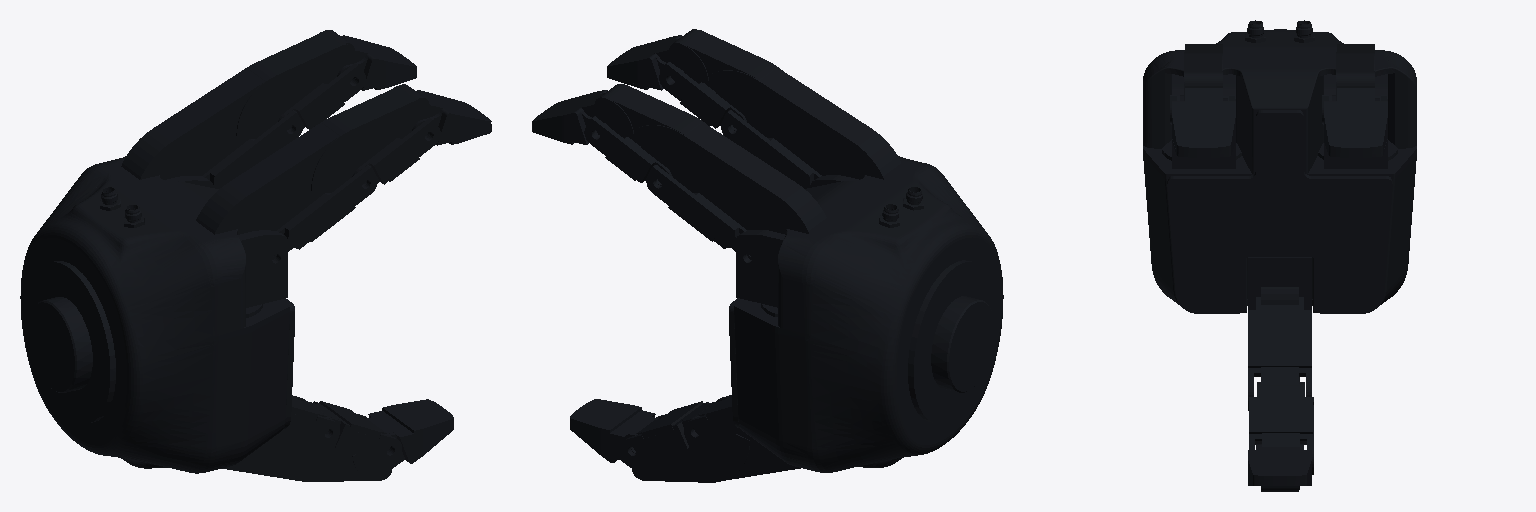
The robot description file, URDF, robot "fanuc_lrmate200id7l":
<?xml version="1.0"?>
<!--
  FANUC LR Mate 200iD/7L articulation for SPARK's simulator backends.

  Derived from ROS-Industrial fanuc_lrmate200id_support. See README.md and
  LICENSE.ros_industrial_fanuc in this directory for provenance and license.
  The serial-chain transforms and mesh selection match the upstream 7L macro;
  limits and effort values are aligned with SPARK's MuJoCo model.
-->
<robot name="fanuc_lrmate200id7l">
  <material name="fanuc_gray28">
    <color rgba="0.28 0.28 0.28 1"/>
  </material>
  <material name="fanuc_yellow">
    <color rgba="0.96 0.76 0.13 1"/>
  </material>
  <material name="fanuc_black">
    <color rgba="0.15 0.15 0.15 1"/>
  </material>

  <link name="base_link">
    <visual>
      <origin xyz="0 0 0" rpy="0 0 0"/>
      <geometry>
        <mesh filename="./meshes/lrmate200id/base_link.stl"/>
      </geometry>
      <material name="fanuc_gray28"/>
    </visual>
    <collision>
      <origin xyz="0 0 0" rpy="0 0 0"/>
      <geometry>
        <mesh filename="./meshes/lrmate200id/base_link.stl"/>
      </geometry>
    </collision>
  </link>

  <link name="link_1">
    <visual>
      <origin xyz="0 0 0" rpy="0 0 0"/>
      <geometry>
        <mesh filename="./meshes/lrmate200id/link_1.stl"/>
      </geometry>
      <material name="fanuc_yellow"/>
    </visual>
    <collision>
      <origin xyz="0 0 0" rpy="0 0 0"/>
      <geometry>
        <mesh filename="./meshes/lrmate200id/link_1.stl"/>
      </geometry>
    </collision>
  </link>

  <link name="link_2">
    <visual>
      <origin xyz="0 0 0" rpy="0 0 0"/>
      <geometry>
        <mesh filename="./meshes/lrmate200id/link_2.stl"/>
      </geometry>
      <material name="fanuc_yellow"/>
    </visual>
    <collision>
      <origin xyz="0 0 0" rpy="0 0 0"/>
      <geometry>
        <mesh filename="./meshes/lrmate200id/link_2.stl"/>
      </geometry>
    </collision>
  </link>

  <link name="link_3">
    <visual>
      <origin xyz="0 0 0" rpy="0 0 0"/>
      <geometry>
        <mesh filename="./meshes/lrmate200id/link_3.stl"/>
      </geometry>
      <material name="fanuc_yellow"/>
    </visual>
    <collision>
      <origin xyz="0 0 0" rpy="0 0 0"/>
      <geometry>
        <mesh filename="./meshes/lrmate200id/link_3.stl"/>
      </geometry>
    </collision>
  </link>

  <link name="link_4">
    <visual>
      <origin xyz="0 0 0" rpy="0 0 0"/>
      <geometry>
        <mesh filename="./meshes/lrmate200id/link_4.stl"/>
      </geometry>
      <material name="fanuc_yellow"/>
    </visual>
    <collision>
      <origin xyz="0 0 0" rpy="0 0 0"/>
      <geometry>
        <mesh filename="./meshes/lrmate200id/link_4.stl"/>
      </geometry>
    </collision>
  </link>

  <link name="link_5">
    <visual>
      <origin xyz="0 0 0" rpy="0 0 0"/>
      <geometry>
        <mesh filename="./meshes/lrmate200id/link_5.stl"/>
      </geometry>
      <material name="fanuc_yellow"/>
    </visual>
    <collision>
      <origin xyz="0 0 0" rpy="0 0 0"/>
      <geometry>
        <mesh filename="./meshes/lrmate200id/link_5.stl"/>
      </geometry>
    </collision>
  </link>

  <link name="link_6">
    <visual>
      <origin xyz="0 0 0" rpy="0 0 0"/>
      <geometry>
        <mesh filename="./meshes/lrmate200id/link_6.stl"/>
      </geometry>
      <material name="fanuc_black"/>
    </visual>
    <collision>
      <origin xyz="0 0 0" rpy="0 0 0"/>
      <geometry>
        <mesh filename="./meshes/lrmate200id/link_6.stl"/>
      </geometry>
    </collision>
  </link>

  <joint name="joint_1" type="revolute">
    <origin xyz="0 0 0.330" rpy="0 0 0"/>
    <parent link="base_link"/>
    <child link="link_1"/>
    <axis xyz="0 0 1"/>
    <limit effort="500" lower="-3.141592654" upper="3.141592654" velocity="6.457718232"/>
    <dynamics damping="5.0"/>
  </joint>

  <joint name="joint_2" type="revolute">
    <origin xyz="0.050 0 0" rpy="0 0 0"/>
    <parent link="link_1"/>
    <child link="link_2"/>
    <axis xyz="0 1 0"/>
    <limit effort="500" lower="-2.138028334" upper="2.138028334" velocity="5.410520681"/>
    <dynamics damping="5.0"/>
  </joint>

  <joint name="joint_3" type="revolute">
    <origin xyz="0 0 0.440" rpy="0 0 0"/>
    <parent link="link_2"/>
    <child link="link_3"/>
    <axis xyz="0 -1 0"/>
    <limit effort="80" lower="-3.752457892" upper="3.752457892" velocity="7.155849934"/>
    <dynamics damping="3.0"/>
  </joint>

  <joint name="joint_4" type="revolute">
    <origin xyz="0 0 0.035" rpy="0 0 0"/>
    <parent link="link_3"/>
    <child link="link_4"/>
    <axis xyz="-1 0 0"/>
    <limit effort="40" lower="-3.316125579" upper="3.316125579" velocity="9.599310885"/>
    <dynamics damping="2.0"/>
  </joint>

  <joint name="joint_5" type="revolute">
    <origin xyz="0.420 0 0" rpy="0 0 0"/>
    <parent link="link_4"/>
    <child link="link_5"/>
    <axis xyz="0 -1 0"/>
    <limit effort="30" lower="-2.181661565" upper="2.181661565" velocity="9.512536902"/>
    <dynamics damping="1.5"/>
  </joint>

  <joint name="joint_6" type="revolute">
    <origin xyz="0.080 0 0" rpy="0 0 0"/>
    <parent link="link_5"/>
    <child link="link_6"/>
    <axis xyz="-1 0 0"/>
    <limit effort="20" lower="-6.283185307" upper="6.283185307" velocity="17.453292520"/>
    <dynamics damping="1.0"/>
  </joint>

  <link name="base"/>
  <joint name="base_link-base" type="fixed">
    <origin xyz="0 0 0.330" rpy="0 0 0"/>
    <parent link="base_link"/>
    <child link="base"/>
  </joint>

  <link name="flange"/>
  <joint name="link_6-flange" type="fixed">
    <origin xyz="0 0 0" rpy="0 0 0"/>
    <parent link="link_6"/>
    <child link="flange"/>
  </joint>

  <link name="tool0"/>
  <joint name="flange-tool0" type="fixed">
    <origin xyz="0 0 0" rpy="3.141592654 -1.570796327 0"/>
    <parent link="flange"/>
    <child link="tool0"/>
  </joint>
  <!--
    Articulated Robotiq 3F model. The palm/finger frames follow the official
    ROS-Industrial model: A is the fixed opposing finger, while B and C are the
    paired fingers. The three flexion joints per finger are auxiliary simulator
    joints and deliberately remain outside SPARK's six arm DoFs. Convex-hull
    collision meshes let PhysX prevent non-adjacent finger/arm penetration.
  -->
  <material name="spark_gripper_black"><color rgba="0.12 0.13 0.15 1"/></material>
  <link name="spark_robotiq_palm">
    <inertial><origin xyz="0 0 0"/><mass value="0.1"/><inertia ixx="0.0001" ixy="0" ixz="0" iyy="0.0001" iyz="0" izz="0.0001"/></inertial>
    <visual><geometry><mesh filename="./meshes/robotiq_3f/palm_vis.stl"/></geometry><material name="spark_gripper_black"/></visual>
    <collision><geometry><mesh filename="./meshes/robotiq_3f/palm.STL"/></geometry></collision>
  </link>
  <joint name="spark_robotiq_3f_mount" type="fixed">
    <origin xyz="0.06885 0 0" rpy="1.57079633 1.57079633 0"/>
    <parent link="link_6"/><child link="spark_robotiq_palm"/>
  </joint>

  <link name="spark_robotiq_A_link_0">
    <inertial><origin xyz="0 0 0"/><mass value="0.01"/><inertia ixx="0.00001" ixy="0" ixz="0" iyy="0.00001" iyz="0" izz="0.00001"/></inertial>
    <visual><origin xyz="0.02 0 0"/><geometry><mesh filename="./meshes/robotiq_3f/link_0_vis.stl"/></geometry><material name="spark_gripper_black"/></visual>
    <collision><origin xyz="0.02 0 0"/><geometry><mesh filename="./meshes/robotiq_3f/link_0.STL"/></geometry></collision>
  </link>
  <joint name="spark_robotiq_A_mount" type="fixed">
    <origin xyz="0.0455 0.0214 0" rpy="0 0 1.57079633"/>
    <parent link="spark_robotiq_palm"/><child link="spark_robotiq_A_link_0"/>
  </joint>
  <link name="spark_robotiq_A_link_1">
    <inertial><origin xyz="0 0 0"/><mass value="0.01"/><inertia ixx="0.00001" ixy="0" ixz="0" iyy="0.00001" iyz="0" izz="0.00001"/></inertial>
    <visual><origin xyz="0.05 -0.028 0" rpy="0 0 -0.471240098"/><geometry><mesh filename="./meshes/robotiq_3f/link_1_vis.stl"/></geometry><material name="spark_gripper_black"/></visual>
    <collision><origin xyz="0.05 -0.028 0" rpy="0 0 -0.471240098"/><geometry><mesh filename="./meshes/robotiq_3f/link_1.STL"/></geometry></collision>
  </link>
  <joint name="spark_robotiq_A_joint_1" type="revolute">
    <origin xyz="0.02 0 0"/><parent link="spark_robotiq_A_link_0"/><child link="spark_robotiq_A_link_1"/><axis xyz="0 0 1"/>
    <limit effort="100" lower="0" upper="1.2217" velocity="5"/><dynamics damping="1"/>
  </joint>
  <link name="spark_robotiq_A_link_2">
    <inertial><origin xyz="0 0 0"/><mass value="0.01"/><inertia ixx="0.00001" ixy="0" ixz="0" iyy="0.00001" iyz="0" izz="0.00001"/></inertial>
    <visual><origin xyz="0.039 0 0.0075"/><geometry><mesh filename="./meshes/robotiq_3f/link_2_vis.stl"/></geometry><material name="spark_gripper_black"/></visual>
    <collision><origin xyz="0.039 0 0.0075"/><geometry><mesh filename="./meshes/robotiq_3f/link_2.STL"/></geometry></collision>
  </link>
  <joint name="spark_robotiq_A_joint_2" type="revolute">
    <origin xyz="0.05 -0.028 0" rpy="0 0 -0.471240098"/><parent link="spark_robotiq_A_link_1"/><child link="spark_robotiq_A_link_2"/><axis xyz="0 0 1"/>
    <limit effort="100" lower="0" upper="1.5708" velocity="5"/><dynamics damping="1"/>
  </joint>
  <link name="spark_robotiq_A_link_3">
    <inertial><origin xyz="0 0 0"/><mass value="0.01"/><inertia ixx="0.00001" ixy="0" ixz="0" iyy="0.00001" iyz="0" izz="0.00001"/></inertial>
    <visual><origin rpy="0 0 0.471240098"/><geometry><mesh filename="./meshes/robotiq_3f/link_3_vis.stl"/></geometry><material name="spark_gripper_black"/></visual>
    <collision><origin rpy="0 0 0.471240098"/><geometry><mesh filename="./meshes/robotiq_3f/link_3.STL"/></geometry></collision>
  </link>
  <joint name="spark_robotiq_A_joint_3" type="revolute">
    <origin xyz="0.039 0 0"/><parent link="spark_robotiq_A_link_2"/><child link="spark_robotiq_A_link_3"/><axis xyz="0 0 1"/>
    <limit effort="100" lower="-0.90757" upper="0.80285" velocity="5"/><dynamics damping="1"/>
  </joint>

  <link name="spark_robotiq_B_link_0">
    <inertial><origin xyz="0 0 0"/><mass value="0.01"/><inertia ixx="0.00001" ixy="0" ixz="0" iyy="0.00001" iyz="0" izz="0.00001"/></inertial>
    <visual><origin xyz="0.02 0 0"/><geometry><mesh filename="./meshes/robotiq_3f/link_0_vis.stl"/></geometry><material name="spark_gripper_black"/></visual>
    <collision><origin xyz="0.02 0 0"/><geometry><mesh filename="./meshes/robotiq_3f/link_0.STL"/></geometry></collision>
  </link>
  <joint name="spark_robotiq_B_mount" type="fixed">
    <origin xyz="-0.0455 0.0214 -0.036" rpy="0 3.14159265 -1.57079633"/><parent link="spark_robotiq_palm"/><child link="spark_robotiq_B_link_0"/>
  </joint>
  <link name="spark_robotiq_B_link_1">
    <inertial><origin xyz="0 0 0"/><mass value="0.01"/><inertia ixx="0.00001" ixy="0" ixz="0" iyy="0.00001" iyz="0" izz="0.00001"/></inertial>
    <visual><origin xyz="0.05 -0.028 0" rpy="0 0 -0.471240098"/><geometry><mesh filename="./meshes/robotiq_3f/link_1_vis.stl"/></geometry><material name="spark_gripper_black"/></visual>
    <collision><origin xyz="0.05 -0.028 0" rpy="0 0 -0.471240098"/><geometry><mesh filename="./meshes/robotiq_3f/link_1.STL"/></geometry></collision>
  </link>
  <joint name="spark_robotiq_B_joint_1" type="revolute">
    <origin xyz="0.02 0 0"/><parent link="spark_robotiq_B_link_0"/><child link="spark_robotiq_B_link_1"/><axis xyz="0 0 1"/>
    <limit effort="100" lower="0" upper="1.2217" velocity="5"/><dynamics damping="1"/>
  </joint>
  <link name="spark_robotiq_B_link_2">
    <inertial><origin xyz="0 0 0"/><mass value="0.01"/><inertia ixx="0.00001" ixy="0" ixz="0" iyy="0.00001" iyz="0" izz="0.00001"/></inertial>
    <visual><origin xyz="0.039 0 0.0075"/><geometry><mesh filename="./meshes/robotiq_3f/link_2_vis.stl"/></geometry><material name="spark_gripper_black"/></visual>
    <collision><origin xyz="0.039 0 0.0075"/><geometry><mesh filename="./meshes/robotiq_3f/link_2.STL"/></geometry></collision>
  </link>
  <joint name="spark_robotiq_B_joint_2" type="revolute">
    <origin xyz="0.05 -0.028 0" rpy="0 0 -0.471240098"/><parent link="spark_robotiq_B_link_1"/><child link="spark_robotiq_B_link_2"/><axis xyz="0 0 1"/>
    <limit effort="100" lower="0" upper="1.5708" velocity="5"/><dynamics damping="1"/>
  </joint>
  <link name="spark_robotiq_B_link_3">
    <inertial><origin xyz="0 0 0"/><mass value="0.01"/><inertia ixx="0.00001" ixy="0" ixz="0" iyy="0.00001" iyz="0" izz="0.00001"/></inertial>
    <visual><origin rpy="0 0 0.471240098"/><geometry><mesh filename="./meshes/robotiq_3f/link_3_vis.stl"/></geometry><material name="spark_gripper_black"/></visual>
    <collision><origin rpy="0 0 0.471240098"/><geometry><mesh filename="./meshes/robotiq_3f/link_3.STL"/></geometry></collision>
  </link>
  <joint name="spark_robotiq_B_joint_3" type="revolute">
    <origin xyz="0.039 0 0"/><parent link="spark_robotiq_B_link_2"/><child link="spark_robotiq_B_link_3"/><axis xyz="0 0 1"/>
    <limit effort="100" lower="-0.90757" upper="0.80285" velocity="5"/><dynamics damping="1"/>
  </joint>

  <link name="spark_robotiq_C_link_0">
    <inertial><origin xyz="0 0 0"/><mass value="0.01"/><inertia ixx="0.00001" ixy="0" ixz="0" iyy="0.00001" iyz="0" izz="0.00001"/></inertial>
    <visual><origin xyz="0.02 0 0"/><geometry><mesh filename="./meshes/robotiq_3f/link_0_vis.stl"/></geometry><material name="spark_gripper_black"/></visual>
    <collision><origin xyz="0.02 0 0"/><geometry><mesh filename="./meshes/robotiq_3f/link_0.STL"/></geometry></collision>
  </link>
  <joint name="spark_robotiq_C_mount" type="fixed">
    <origin xyz="-0.0455 0.0214 0.036" rpy="0 3.14159265 -1.57079633"/><parent link="spark_robotiq_palm"/><child link="spark_robotiq_C_link_0"/>
  </joint>
  <link name="spark_robotiq_C_link_1">
    <inertial><origin xyz="0 0 0"/><mass value="0.01"/><inertia ixx="0.00001" ixy="0" ixz="0" iyy="0.00001" iyz="0" izz="0.00001"/></inertial>
    <visual><origin xyz="0.05 -0.028 0" rpy="0 0 -0.471240098"/><geometry><mesh filename="./meshes/robotiq_3f/link_1_vis.stl"/></geometry><material name="spark_gripper_black"/></visual>
    <collision><origin xyz="0.05 -0.028 0" rpy="0 0 -0.471240098"/><geometry><mesh filename="./meshes/robotiq_3f/link_1.STL"/></geometry></collision>
  </link>
  <joint name="spark_robotiq_C_joint_1" type="revolute">
    <origin xyz="0.02 0 0"/><parent link="spark_robotiq_C_link_0"/><child link="spark_robotiq_C_link_1"/><axis xyz="0 0 1"/>
    <limit effort="100" lower="0" upper="1.2217" velocity="5"/><dynamics damping="1"/>
  </joint>
  <link name="spark_robotiq_C_link_2">
    <inertial><origin xyz="0 0 0"/><mass value="0.01"/><inertia ixx="0.00001" ixy="0" ixz="0" iyy="0.00001" iyz="0" izz="0.00001"/></inertial>
    <visual><origin xyz="0.039 0 0.0075"/><geometry><mesh filename="./meshes/robotiq_3f/link_2_vis.stl"/></geometry><material name="spark_gripper_black"/></visual>
    <collision><origin xyz="0.039 0 0.0075"/><geometry><mesh filename="./meshes/robotiq_3f/link_2.STL"/></geometry></collision>
  </link>
  <joint name="spark_robotiq_C_joint_2" type="revolute">
    <origin xyz="0.05 -0.028 0" rpy="0 0 -0.471240098"/><parent link="spark_robotiq_C_link_1"/><child link="spark_robotiq_C_link_2"/><axis xyz="0 0 1"/>
    <limit effort="100" lower="0" upper="1.5708" velocity="5"/><dynamics damping="1"/>
  </joint>
  <link name="spark_robotiq_C_link_3">
    <inertial><origin xyz="0 0 0"/><mass value="0.01"/><inertia ixx="0.00001" ixy="0" ixz="0" iyy="0.00001" iyz="0" izz="0.00001"/></inertial>
    <visual><origin rpy="0 0 0.471240098"/><geometry><mesh filename="./meshes/robotiq_3f/link_3_vis.stl"/></geometry><material name="spark_gripper_black"/></visual>
    <collision><origin rpy="0 0 0.471240098"/><geometry><mesh filename="./meshes/robotiq_3f/link_3.STL"/></geometry></collision>
  </link>
  <joint name="spark_robotiq_C_joint_3" type="revolute">
    <origin xyz="0.039 0 0"/><parent link="spark_robotiq_C_link_2"/><child link="spark_robotiq_C_link_3"/><axis xyz="0 0 1"/>
    <limit effort="100" lower="-0.90757" upper="0.80285" velocity="5"/><dynamics damping="1"/>
  </joint>
</robot>

--- Facts derived from the render (not from the file) ---
3 views of the same robot in one strip: view 1: azimuth 30°, elevation 25°; view 2: azimuth 150°, elevation 25°; view 3: azimuth 270°, elevation 25° (orthographic).
Robot: fanuc_lrmate200id7l — 23 links, 22 joints (15 revolute, 7 fixed); root link base_link; default pose: every joint at zero.
Visible links, largest first — view 1: spark_robotiq_palm, spark_robotiq_C_link_1, spark_robotiq_B_link_1, spark_robotiq_C_link_2, spark_robotiq_B_link_2, spark_robotiq_A_link_1, spark_robotiq_A_link_3, spark_robotiq_C_link_0, spark_robotiq_A_link_2, spark_robotiq_B_link_3, spark_robotiq_C_link_3; view 2: spark_robotiq_palm, spark_robotiq_B_link_1, spark_robotiq_C_link_1, spark_robotiq_A_link_2, spark_robotiq_B_link_2, spark_robotiq_C_link_2, spark_robotiq_B_link_3, spark_robotiq_C_link_3, spark_robotiq_A_link_3, spark_robotiq_B_link_0, spark_robotiq_A_link_1; view 3: spark_robotiq_palm, spark_robotiq_A_link_1, spark_robotiq_B_link_3, spark_robotiq_C_link_3, spark_robotiq_A_link_2, spark_robotiq_A_link_3, spark_robotiq_A_link_0, spark_robotiq_C_link_0, spark_robotiq_B_link_0, spark_robotiq_B_link_2, spark_robotiq_C_link_2.
Boxes of the visible links, x1=… form: spark_robotiq_palm: x1=20, y1=156, x2=294, y2=473; spark_robotiq_C_link_1: x1=196, y1=118, x2=377, y2=259; spark_robotiq_B_link_1: x1=121, y1=63, x2=302, y2=188; spark_robotiq_C_link_2: x1=311, y1=86, x2=440, y2=190; spark_robotiq_B_link_2: x1=236, y1=32, x2=365, y2=136; spark_robotiq_A_link_1: x1=223, y1=395, x2=351, y2=481; spark_robotiq_A_link_3: x1=352, y1=399, x2=453, y2=480; spark_robotiq_C_link_0: x1=238, y1=230, x2=287, y2=307; spark_robotiq_A_link_2: x1=304, y1=401, x2=401, y2=481; spark_robotiq_B_link_3: x1=319, y1=30, x2=416, y2=90; spark_robotiq_C_link_3: x1=394, y1=84, x2=491, y2=145; spark_robotiq_palm: x1=729, y1=156, x2=1003, y2=472; spark_robotiq_B_link_1: x1=635, y1=122, x2=827, y2=259; spark_robotiq_C_link_1: x1=710, y1=68, x2=902, y2=188; spark_robotiq_A_link_2: x1=621, y1=401, x2=749, y2=482; spark_robotiq_B_link_2: x1=584, y1=84, x2=705, y2=185; spark_robotiq_C_link_2: x1=659, y1=30, x2=782, y2=130; spark_robotiq_B_link_3: x1=532, y1=84, x2=633, y2=144; spark_robotiq_C_link_3: x1=607, y1=29, x2=708, y2=90; spark_robotiq_A_link_3: x1=570, y1=399, x2=658, y2=477; spark_robotiq_B_link_0: x1=736, y1=230, x2=785, y2=307; spark_robotiq_A_link_1: x1=684, y1=395, x2=800, y2=480; spark_robotiq_palm: x1=1143, y1=20, x2=1416, y2=313; spark_robotiq_A_link_1: x1=1248, y1=287, x2=1311, y2=410; spark_robotiq_B_link_3: x1=1324, y1=71, x2=1387, y2=157; spark_robotiq_C_link_3: x1=1172, y1=71, x2=1235, y2=157; spark_robotiq_A_link_2: x1=1249, y1=377, x2=1313, y2=489; spark_robotiq_A_link_3: x1=1248, y1=444, x2=1311, y2=491; spark_robotiq_A_link_0: x1=1248, y1=257, x2=1311, y2=309; spark_robotiq_C_link_0: x1=1172, y1=74, x2=1235, y2=168; spark_robotiq_B_link_0: x1=1324, y1=74, x2=1387, y2=168; spark_robotiq_B_link_2: x1=1322, y1=52, x2=1386, y2=125; spark_robotiq_C_link_2: x1=1170, y1=52, x2=1234, y2=125.
Bounding box of the posed robot: 0.2182 × 0.1302 × 0.2179 m (x, y, z).
13 mesh visuals loaded from 12 distinct referenced files (5 binary STL); not drawn: 7 (reference not matched to a file when rendering).
